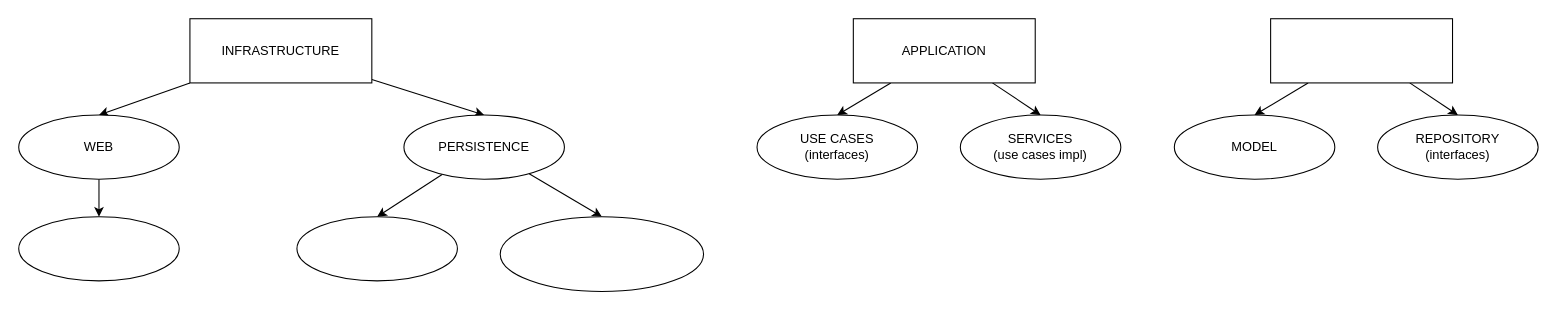
Some shapes in this 1557 by 310 pixel diagram are drawn without their labels. Each missing label, with the box of its shape:
ADAPTERS implements DOMAIN REPOSITORY: (499, 216, 704, 292)
DOMAIN: (1270, 18, 1453, 83)
MAPPERS (to domain and to entity): (296, 216, 457, 281)
REST CONTROLLERS: (18, 216, 179, 281)
